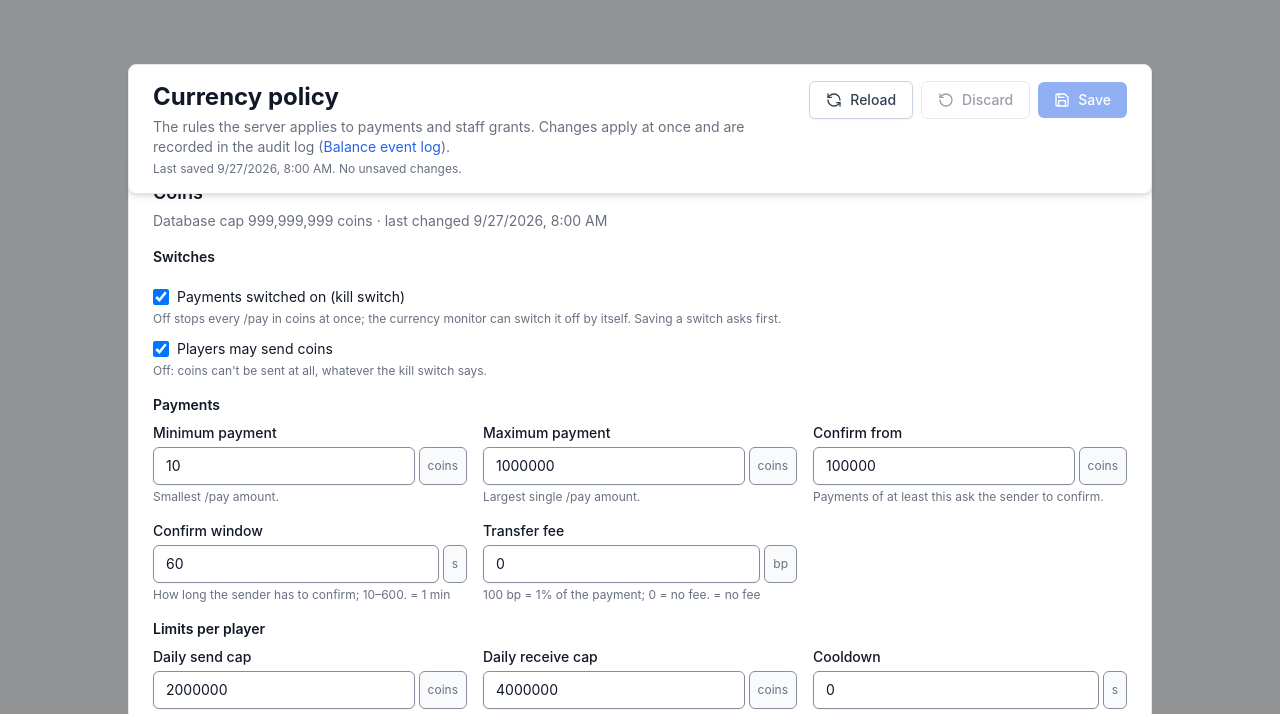
it: CurrencyPolicyPage › sends back the version it loaded, with a toast and a clean header
Replace the text in the field labelled "Maximum payment" with "500000": (614,466) [483,447,745,485]
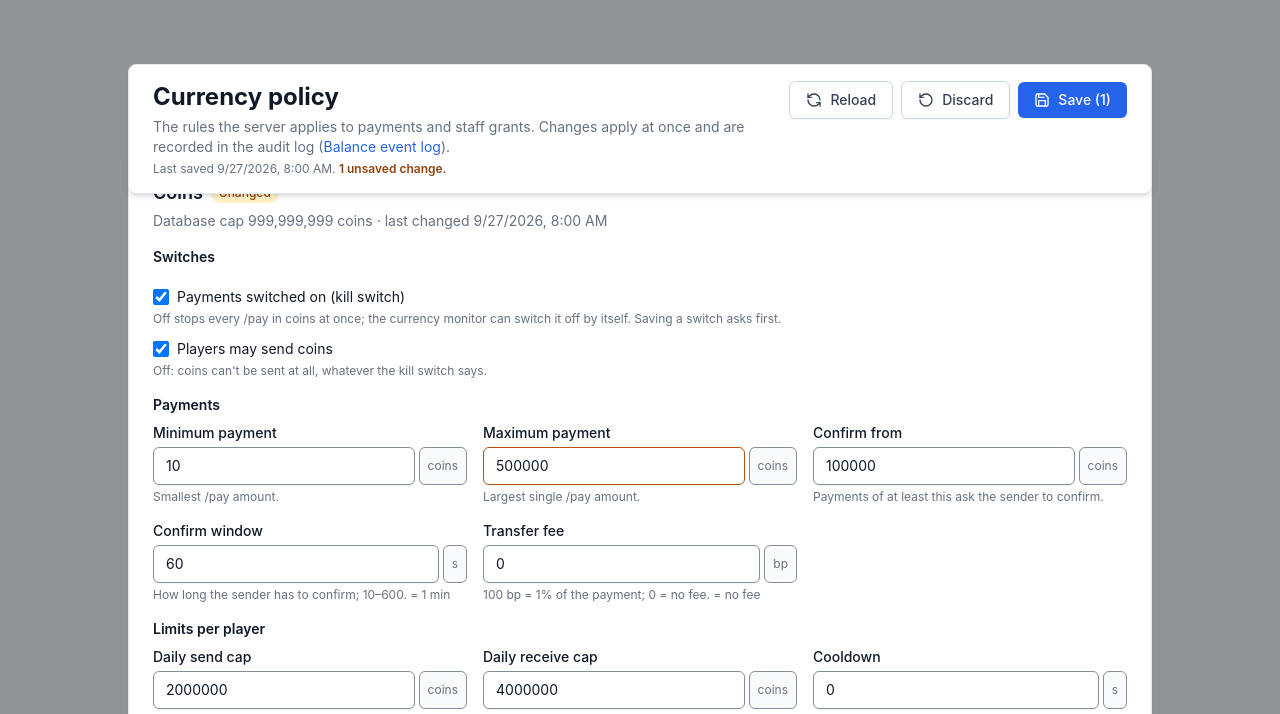
Check: the element "Coins" shows "Changed", box [219,185,271,200]
Check: the header "Currency policy" shows "1 unsaved change.", box [339,161,446,176]
Click the button "Save (1)": (1073,100) [1018,82,1127,118]
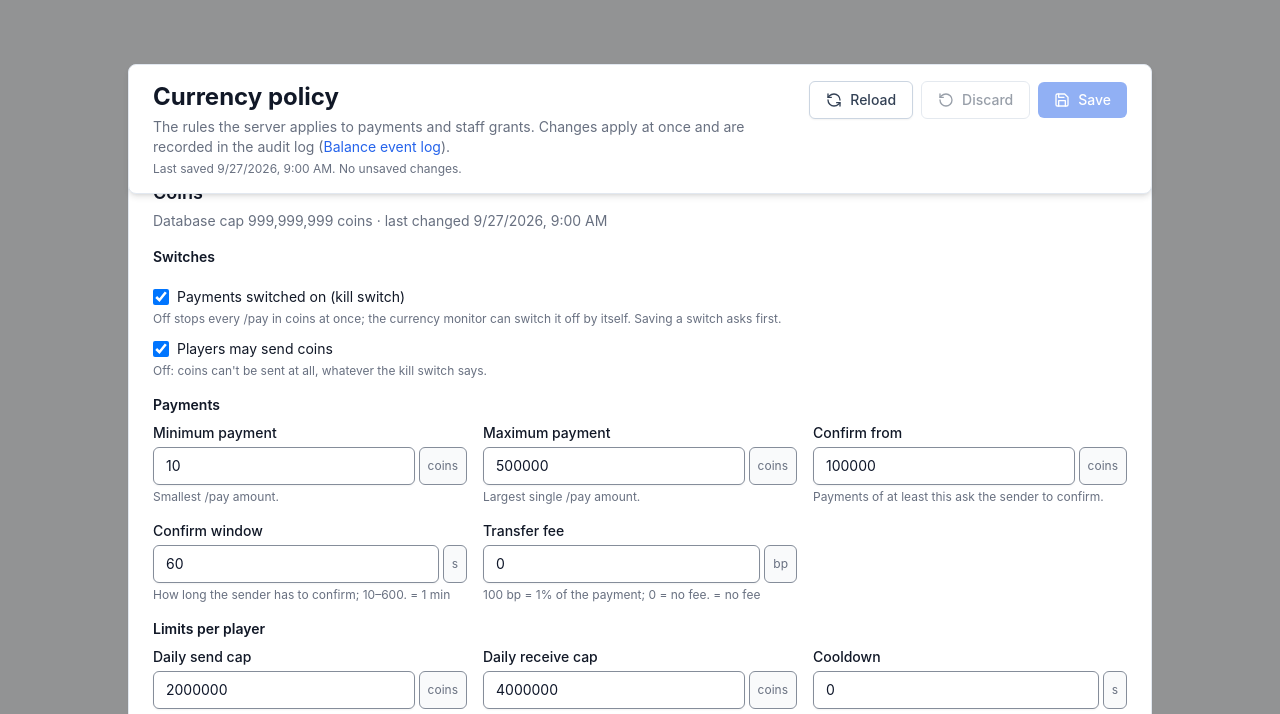
Check: the header "Currency policy" shows "No unsaved changes.", box [339,161,462,176]
